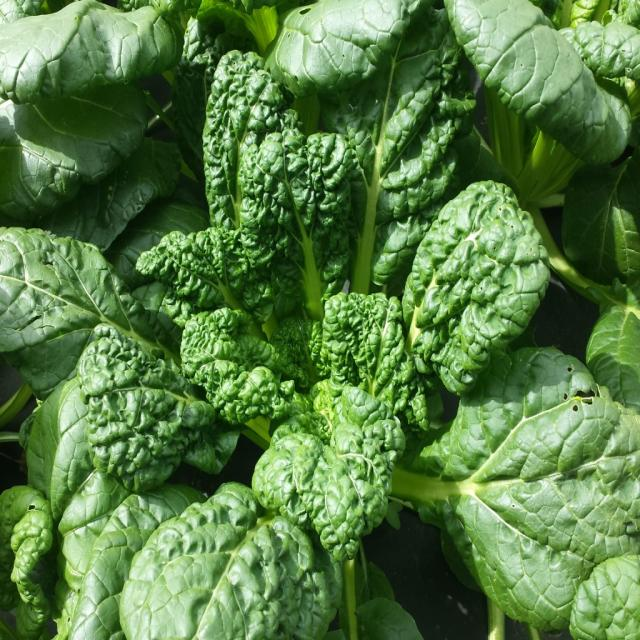spinach: (392, 348, 640, 630), (266, 0, 475, 293), (202, 52, 354, 319), (0, 2, 181, 220), (120, 483, 341, 638), (136, 227, 294, 424), (402, 183, 549, 394), (252, 380, 405, 561), (0, 227, 160, 398), (322, 292, 429, 430)
